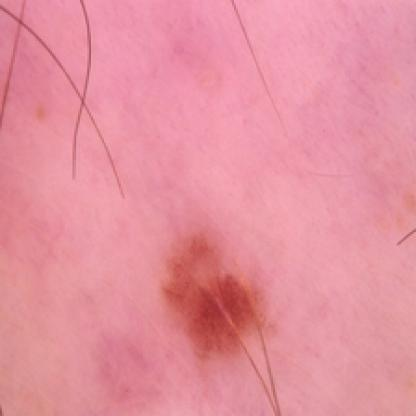benign: (164, 240, 270, 360)
